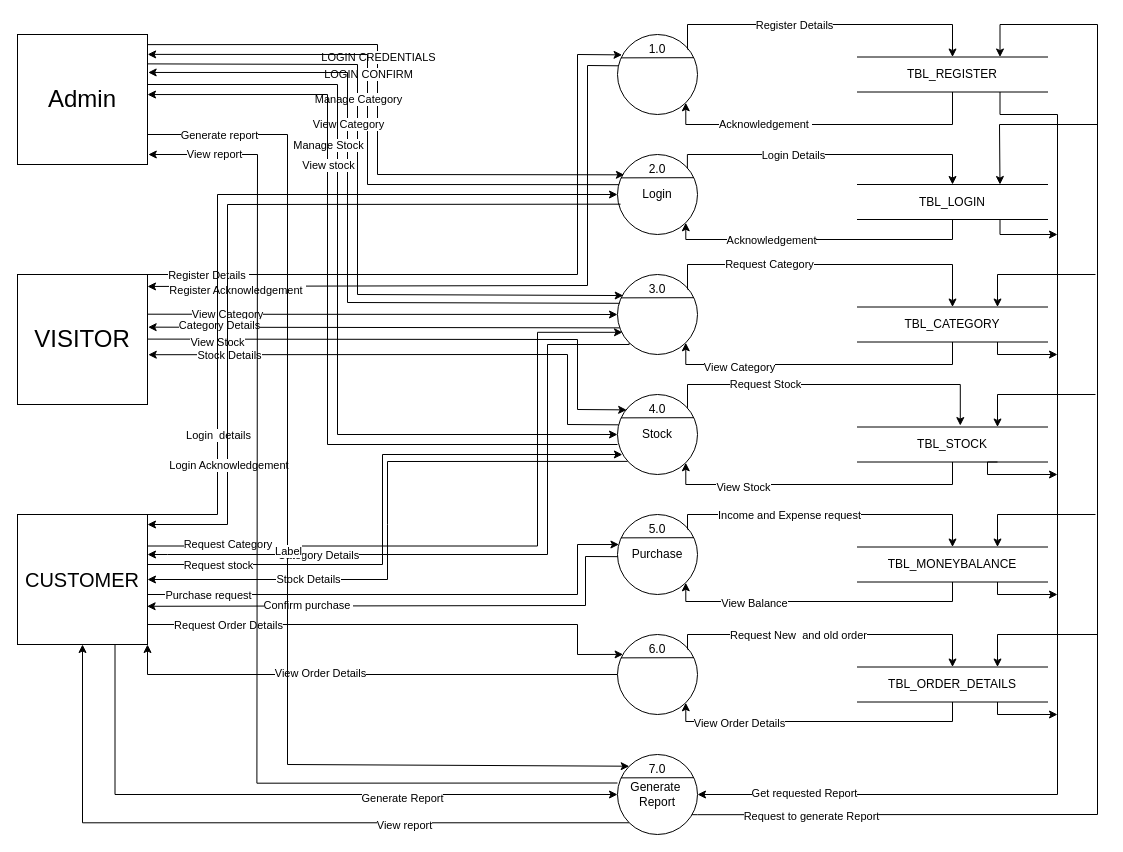
The diagram is 1123 pixels wide and 852 high, and some of its shapes have lost their labels. The shapes that lost their labels are listed below. From the top down, each one's box as (x1, y1, x2, y2) in pixels, then its label:
(616, 34, 698, 114): Register
(616, 274, 698, 354): Category
(616, 634, 698, 714): Order_details
